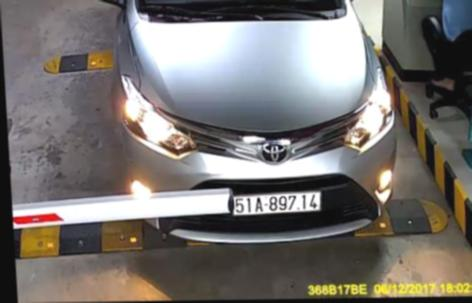License_Plate: (232, 189, 323, 221)
